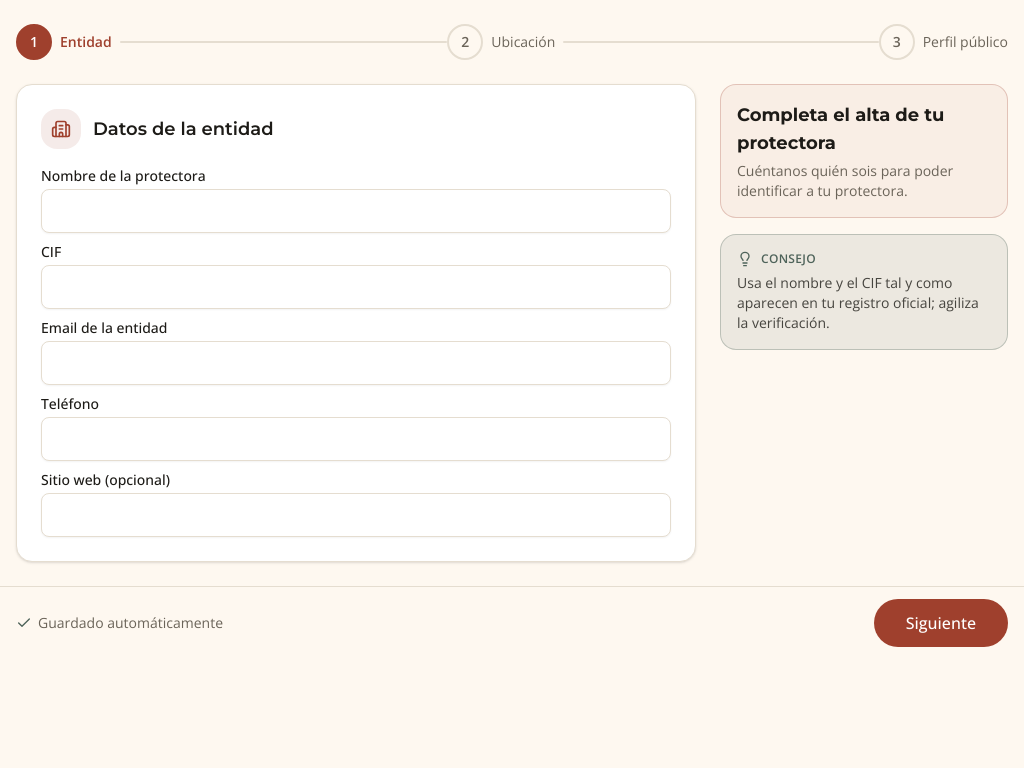
WizardAlta › no avanza del paso 1 con datos inválidos
Click the button "Siguiente". click: (941, 623)
box: [874,599,1008,647]
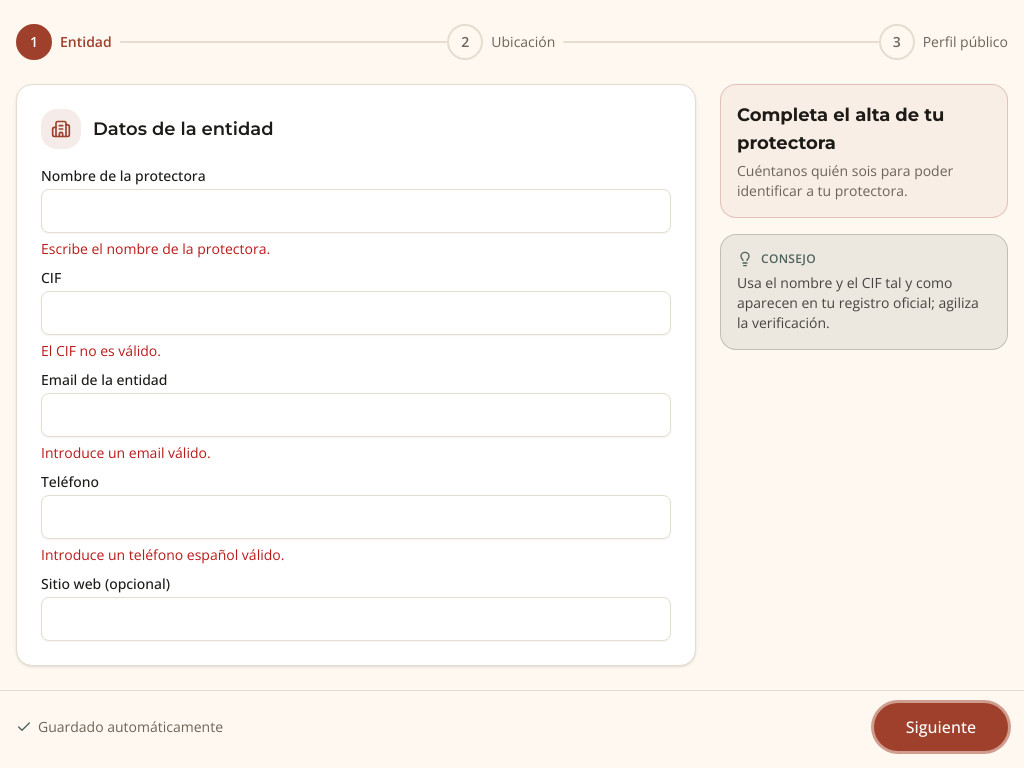
Result: the text "El CIF no es válido." is shown at [41,341,161,360]
